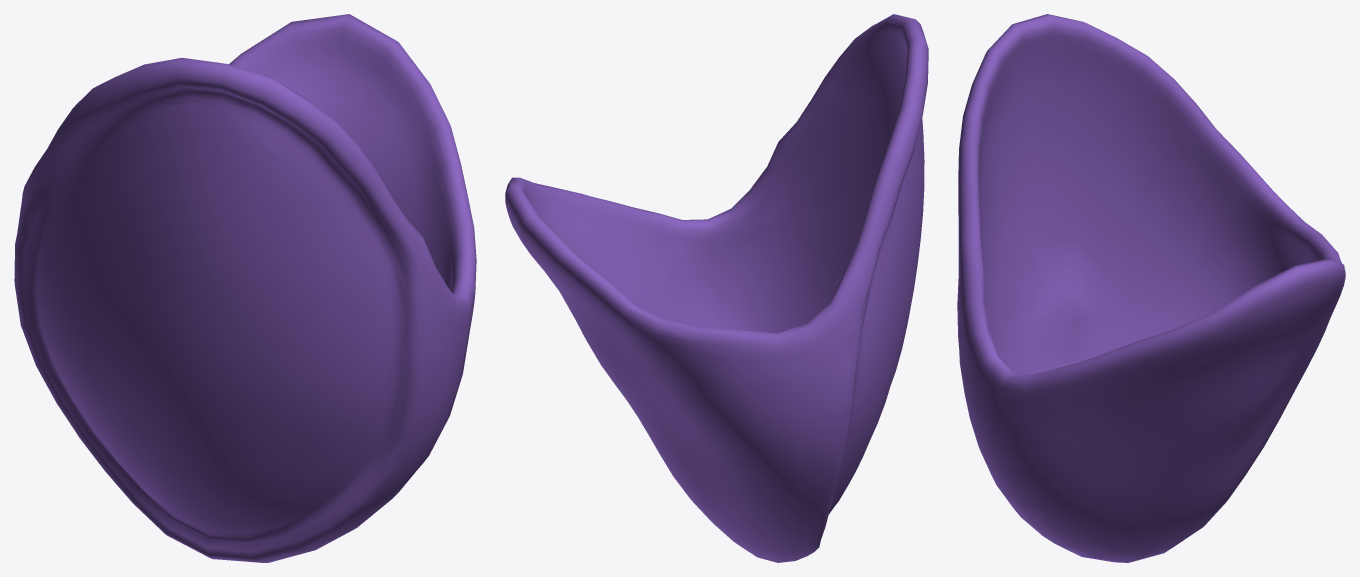
Rendered from TL3_Enamel_Prongs.001 2.glb.
3 renders of one model, left to right at view 1: azimuth 30°, elevation 25°; view 2: azimuth 150°, elevation 25°; view 3: azimuth 270°, elevation 25°, orthographic. The views are drawn at different scales.
Visible parts, largest first — view 1: TL3_Enamel_Prongs.001; view 2: TL3_Enamel_Prongs.001; view 3: TL3_Enamel_Prongs.001.
Boxes of the visible parts, bbox=[...] form: TL3_Enamel_Prongs.001: bbox=[14, 14, 476, 562]; TL3_Enamel_Prongs.001: bbox=[505, 14, 928, 562]; TL3_Enamel_Prongs.001: bbox=[957, 14, 1345, 562].
Size of the model in its own units: 0.7971 by 1.09 by 0.7752.
